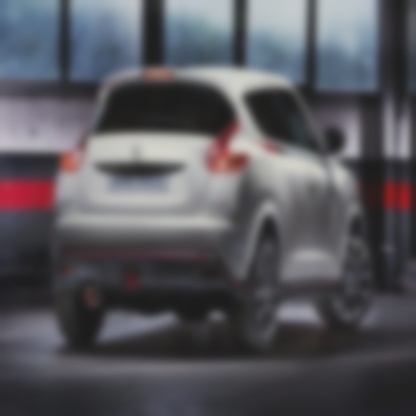Vehicle: (51, 42, 377, 359)
